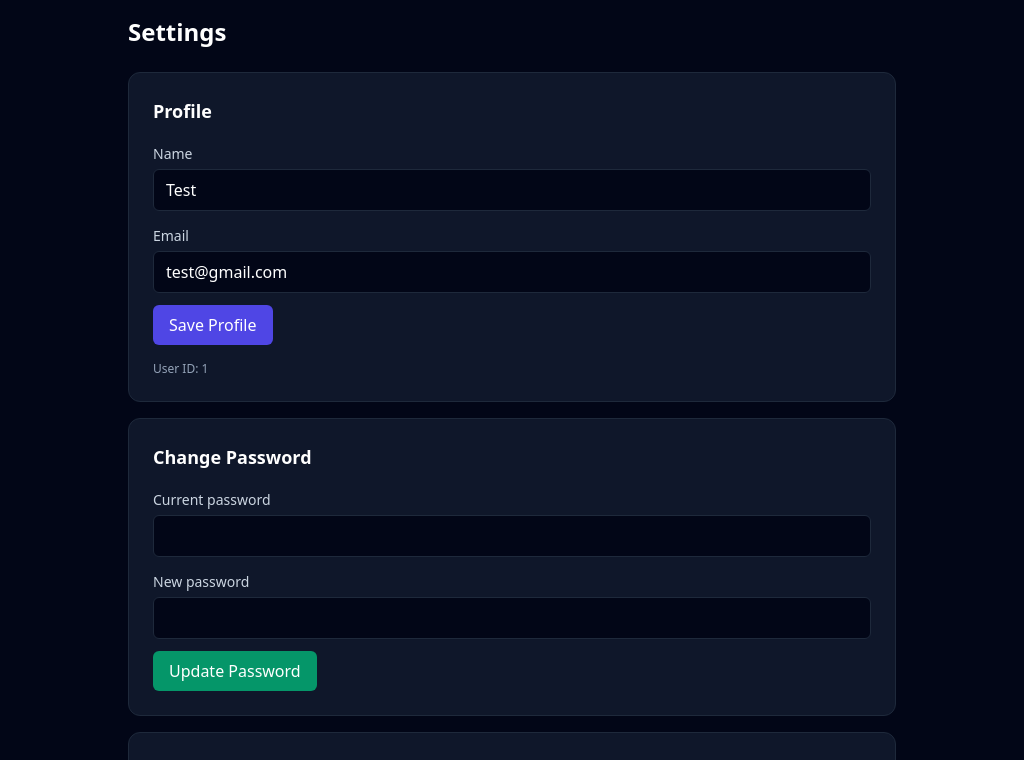
Scenario: Settings page › TEST 13.3 — Profile validation blocks invalid email
Check: the form named "Profile form" is shown, box x1=153 y1=141 x2=871 y2=345
Replace the text in the field labelled "Email" with "not-an-email" at point(512, 272), box x1=153 y1=251 x2=871 y2=293
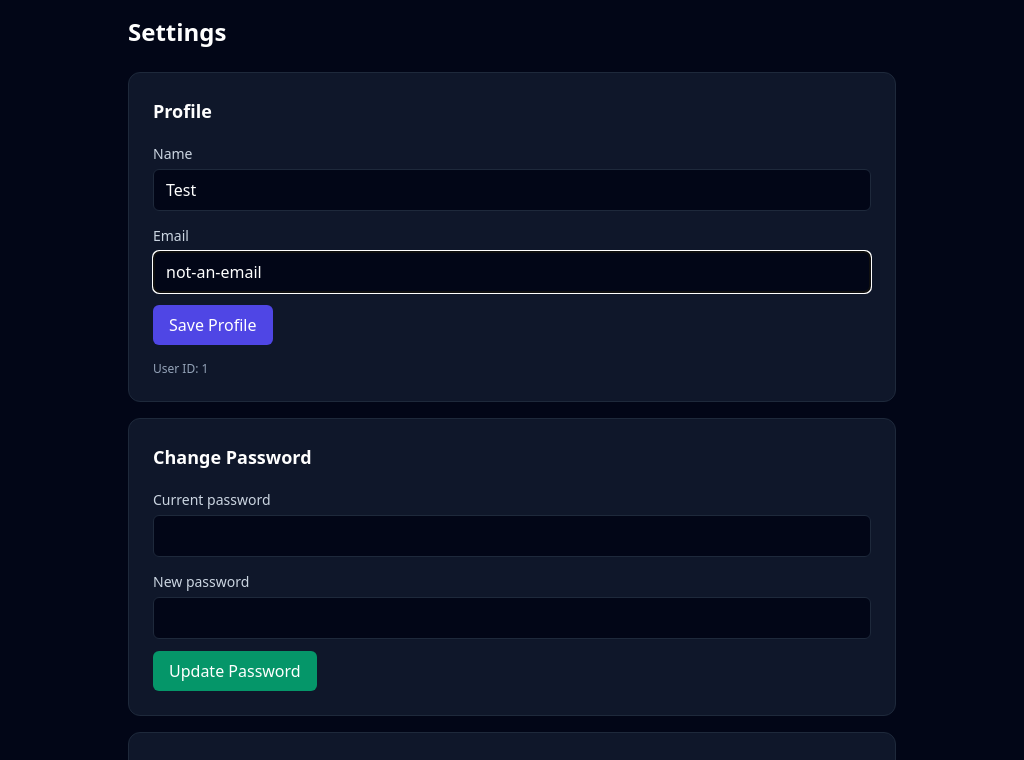
Click the button "Save Profile" at point(213, 325), box x1=153 y1=305 x2=272 y2=345
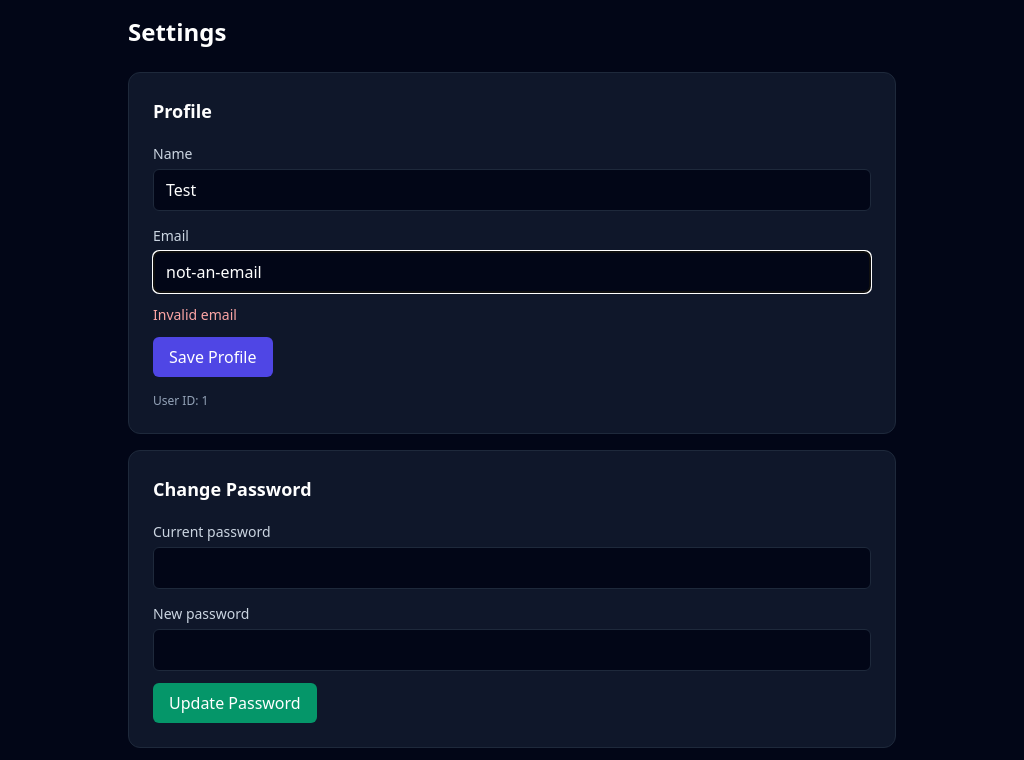
Check: the text "Invalid email" is shown, box x1=153 y1=305 x2=237 y2=324
